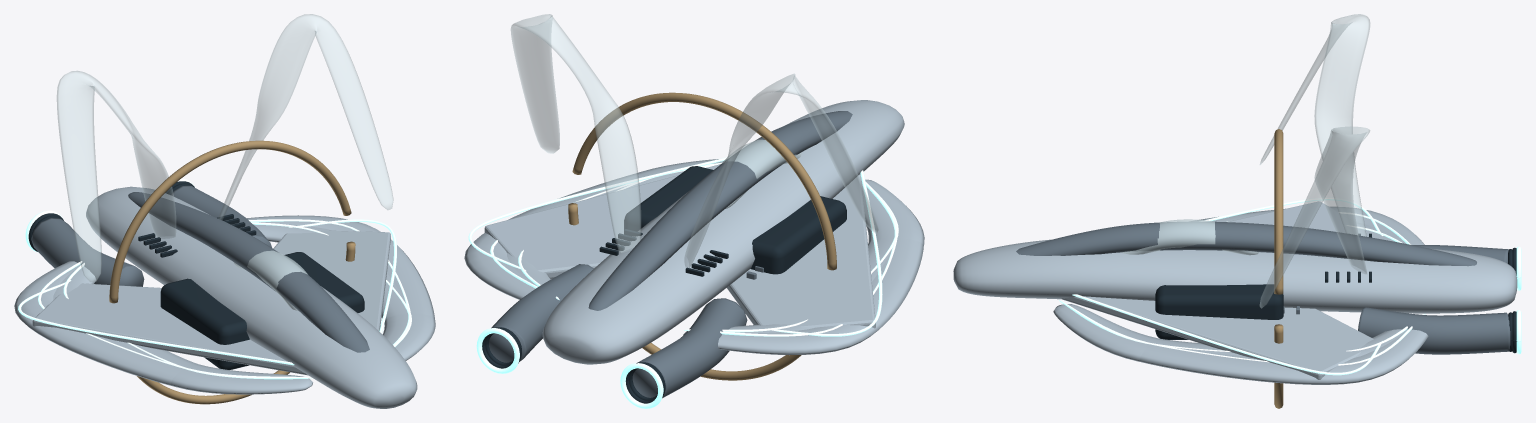
The model's file is tem-cinematic-fleet.glb.
The picture shows the model from 3 angles, left to right: view 1: azimuth 30°, elevation 25°; view 2: azimuth 150°, elevation 25°; view 3: azimuth 270°, elevation 25°; orthographic projection. The views are drawn at different scales.
Visible parts, largest first — view 1: SHIP_0_PEARL_CERAMIC, SHIP_2_GLASS_DISPLAY, SHIP_0_TITANIUM_COLD, SHIP_3_DARK_PRESSURE, SHIP_1_PEARL_CERAMIC, SHIP_1_TITANIUM_CHAMPAGNE, SHIP_0_EMISSION_CYAN, SHIP_0_GLASS_DISPLAY, SHIP_1_GLASS_DISPLAY, SHIP_1_EMISSION_CYAN, SHIP_0_DARK_PRESSURE; view 2: SHIP_0_PEARL_CERAMIC, SHIP_0_TITANIUM_COLD, SHIP_2_GLASS_DISPLAY, SHIP_3_DARK_PRESSURE, SHIP_1_TITANIUM_CHAMPAGNE, SHIP_0_EMISSION_CYAN, SHIP_1_PEARL_CERAMIC, SHIP_0_DARK_PRESSURE, SHIP_0_GLASS_DISPLAY, SHIP_1_GLASS_DISPLAY, SHIP_1_EMISSION_CYAN; view 3: SHIP_0_PEARL_CERAMIC, SHIP_0_TITANIUM_COLD, SHIP_2_GLASS_DISPLAY, SHIP_3_DARK_PRESSURE, SHIP_1_PEARL_CERAMIC, SHIP_0_EMISSION_CYAN, SHIP_1_TITANIUM_CHAMPAGNE, SHIP_0_GLASS_DISPLAY, SHIP_1_GLASS_DISPLAY, SHIP_1_EMISSION_CYAN.
Boxes of the visible parts, x1,y1,x2,y2 form: SHIP_0_PEARL_CERAMIC: [14, 186, 434, 408]; SHIP_2_GLASS_DISPLAY: [56, 14, 393, 281]; SHIP_0_TITANIUM_COLD: [31, 185, 369, 352]; SHIP_3_DARK_PRESSURE: [28, 182, 364, 369]; SHIP_1_PEARL_CERAMIC: [53, 223, 435, 394]; SHIP_1_TITANIUM_CHAMPAGNE: [109, 140, 355, 404]; SHIP_0_EMISSION_CYAN: [18, 178, 410, 377]; SHIP_0_GLASS_DISPLAY: [234, 251, 306, 310]; SHIP_1_GLASS_DISPLAY: [234, 251, 306, 310]; SHIP_1_EMISSION_CYAN: [63, 222, 411, 379]; SHIP_0_DARK_PRESSURE: [29, 181, 255, 257]; SHIP_0_PEARL_CERAMIC: [464, 100, 923, 364]; SHIP_0_TITANIUM_COLD: [489, 111, 852, 397]; SHIP_2_GLASS_DISPLAY: [510, 14, 878, 267]; SHIP_3_DARK_PRESSURE: [482, 166, 846, 403]; SHIP_1_TITANIUM_CHAMPAGNE: [568, 92, 836, 380]; SHIP_0_EMISSION_CYAN: [468, 156, 897, 408]; SHIP_1_PEARL_CERAMIC: [507, 159, 924, 334]; SHIP_0_DARK_PRESSURE: [482, 230, 728, 403]; SHIP_0_GLASS_DISPLAY: [722, 140, 801, 208]; SHIP_1_GLASS_DISPLAY: [723, 140, 801, 208]; SHIP_1_EMISSION_CYAN: [518, 162, 898, 332]; SHIP_0_PEARL_CERAMIC: [953, 201, 1517, 384]; SHIP_0_TITANIUM_COLD: [1016, 221, 1510, 354]; SHIP_2_GLASS_DISPLAY: [1259, 14, 1370, 308]; SHIP_3_DARK_PRESSURE: [1155, 233, 1516, 353]; SHIP_1_PEARL_CERAMIC: [1053, 222, 1407, 361]; SHIP_0_EMISSION_CYAN: [1062, 197, 1521, 375]; SHIP_1_TITANIUM_CHAMPAGNE: [1274, 129, 1283, 408]; SHIP_0_GLASS_DISPLAY: [1121, 219, 1258, 254]; SHIP_1_GLASS_DISPLAY: [1122, 220, 1258, 254]; SHIP_1_EMISSION_CYAN: [1059, 225, 1424, 351].
Bounding box in the file's own units: 4.55 × 3.9 × 6.2.
